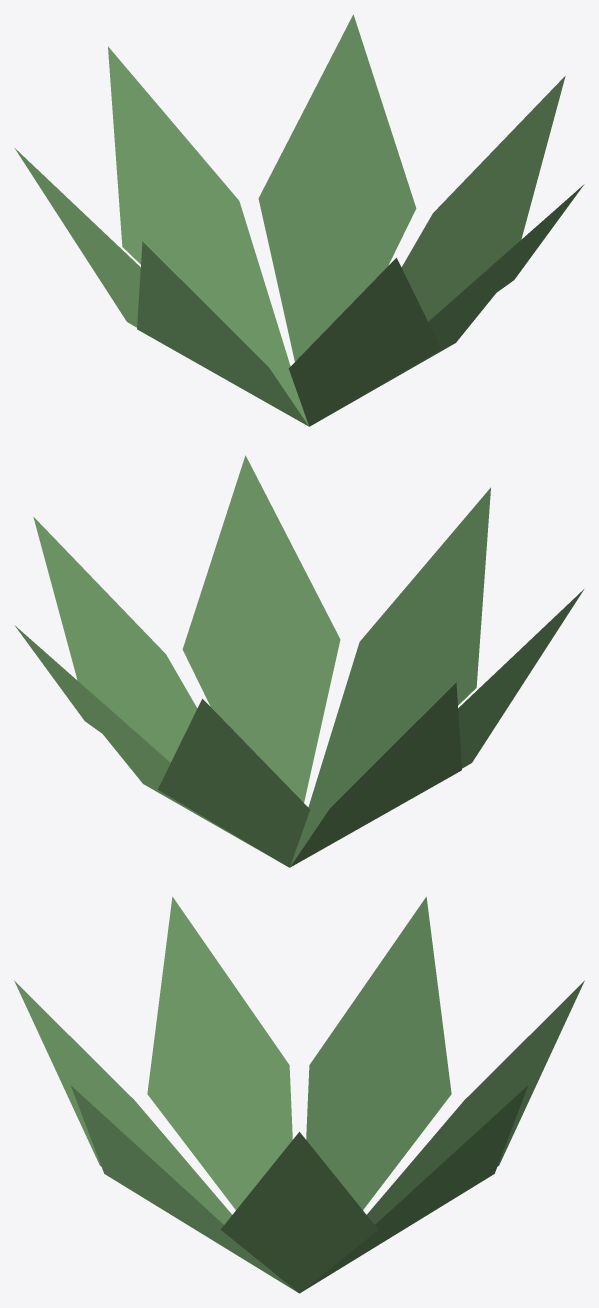
Rendered from Herb.fbx.
The picture shows the model from 3 angles, top to bottom: view 1: azimuth 30°, elevation 25°; view 2: azimuth 150°, elevation 25°; view 3: azimuth 270°, elevation 25°; orthographic projection.
Visible parts, largest first — view 1: Medicinal leaf.001_export, Medicinal leaf.002_export, Medicinal leaf_export, Medicinal leaf.005_export, Medicinal leaf.004_export, Medicinal leaf.003_export, Medicinal leaf.006_export; view 2: Medicinal leaf.006_export, Medicinal leaf.005_export, Medicinal leaf_export, Medicinal leaf.002_export, Medicinal leaf.003_export, Medicinal leaf.004_export, Medicinal leaf.001_export; view 3: Medicinal leaf.003_export, Medicinal leaf.004_export, Medicinal leaf_export, Medicinal leaf.002_export, Medicinal leaf.005_export, Medicinal leaf.001_export, Medicinal leaf.006_export.
Part boxes in pixels (bbox=[...]): Medicinal leaf.001_export: bbox=[258, 14, 416, 361]; Medicinal leaf.002_export: bbox=[108, 46, 308, 425]; Medicinal leaf_export: bbox=[401, 76, 565, 321]; Medicinal leaf.005_export: bbox=[288, 258, 440, 426]; Medicinal leaf.004_export: bbox=[137, 241, 308, 426]; Medicinal leaf.003_export: bbox=[15, 148, 140, 327]; Medicinal leaf.006_export: bbox=[315, 184, 584, 423]; Medicinal leaf.006_export: bbox=[182, 455, 340, 802]; Medicinal leaf.005_export: bbox=[290, 487, 490, 866]; Medicinal leaf_export: bbox=[33, 517, 197, 762]; Medicinal leaf.002_export: bbox=[158, 699, 310, 867]; Medicinal leaf.003_export: bbox=[290, 682, 461, 867]; Medicinal leaf.004_export: bbox=[458, 589, 583, 768]; Medicinal leaf.001_export: bbox=[14, 625, 283, 864]; Medicinal leaf.003_export: bbox=[306, 896, 451, 1209]; Medicinal leaf.004_export: bbox=[147, 896, 292, 1209]; Medicinal leaf_export: bbox=[220, 1132, 378, 1293]; Medicinal leaf.002_export: bbox=[367, 980, 584, 1224]; Medicinal leaf.005_export: bbox=[14, 980, 231, 1224]; Medicinal leaf.001_export: bbox=[301, 1086, 527, 1292]; Medicinal leaf.006_export: bbox=[71, 1086, 297, 1292].
Bounding box in the file's own units: 124 × 70 × 127.
